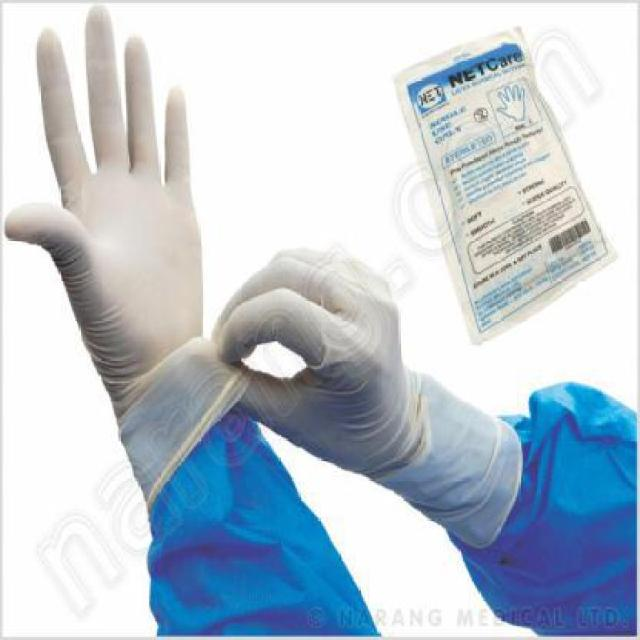B3: (5, 2, 256, 480), (217, 240, 526, 554)
